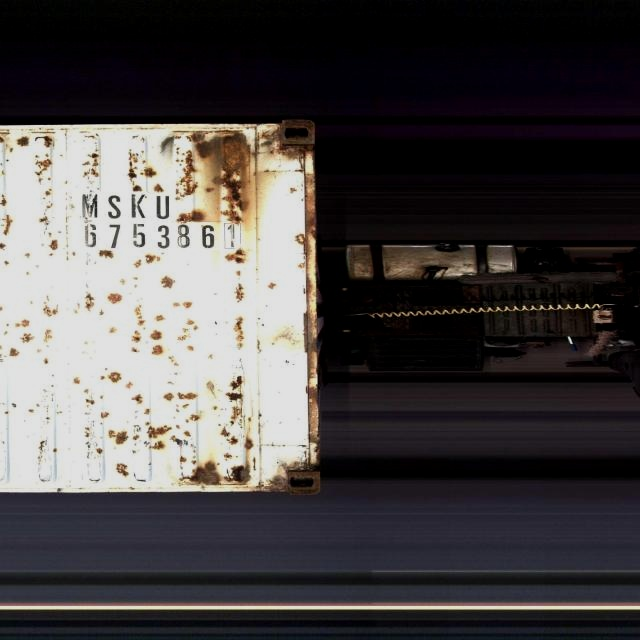Rusty: (176, 133, 254, 227), (217, 377, 257, 451), (105, 421, 180, 455), (186, 458, 255, 489)
